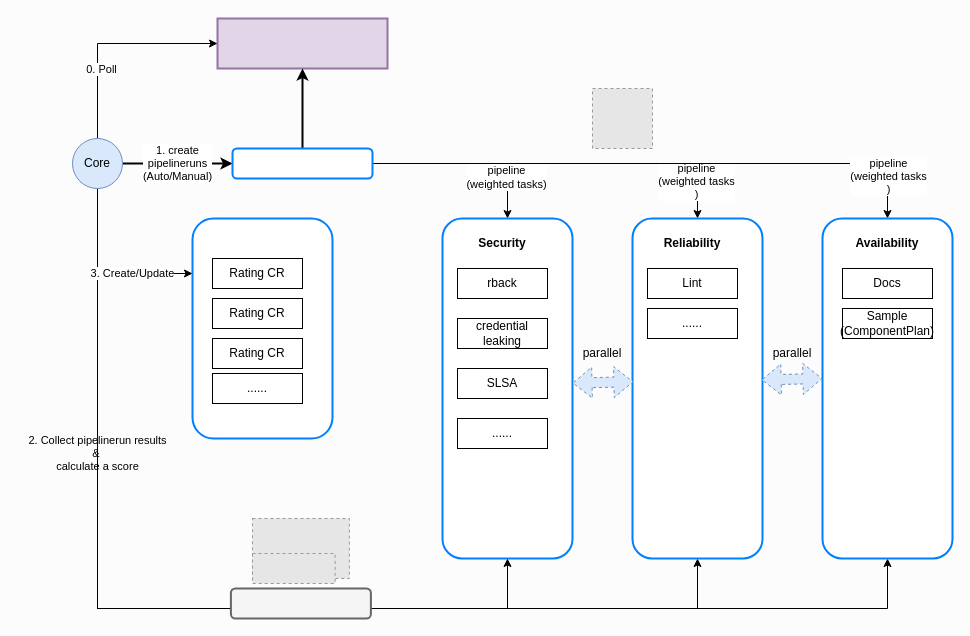
The diagram is 970 pixels wide and 636 high, and some of its shapes have lost their labels. Grey dashed boxes stand in for pictures. Each missing label, with the box of its shape:
AI Bot(Optional): (229, 587, 371, 619)
Pull (Task): (231, 147, 373, 179)
Repository Service: (216, 17, 388, 69)
